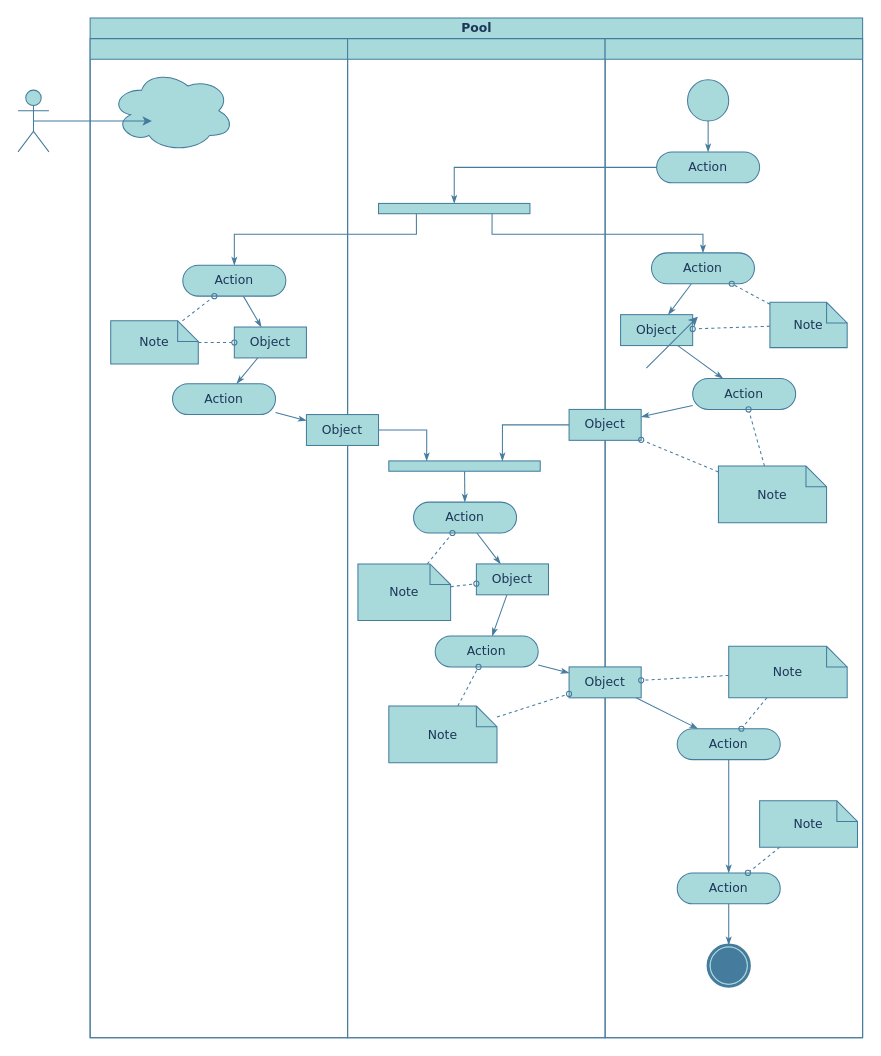
Image size: 881x1056. Some labels were removed from this diagram. Here are the shapes that lost their labels. From the top down, the box of each, then its label:
(17, 89, 49, 152): Actor
(89, 38, 348, 1038): Lane 1
(347, 38, 605, 1038): Lane 2
(604, 38, 863, 1038): Lane 3
